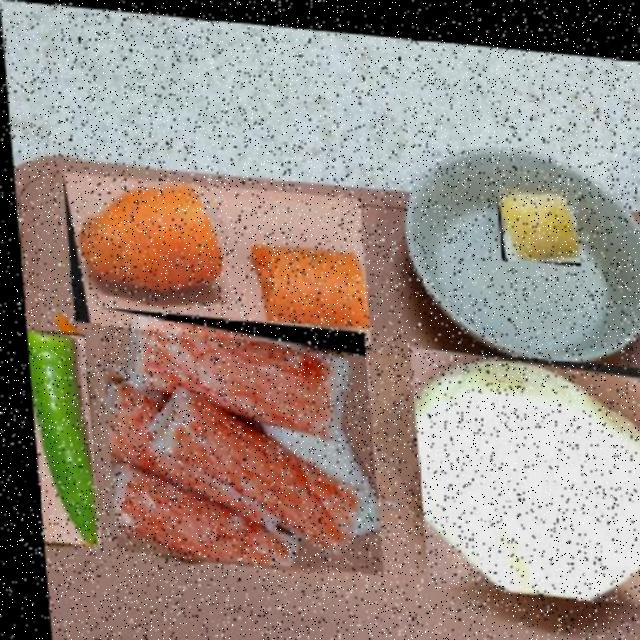Carrot: (60, 170, 368, 345)
Chili Pepper: (28, 332, 97, 545)
Crab Meat: (93, 305, 376, 570)
